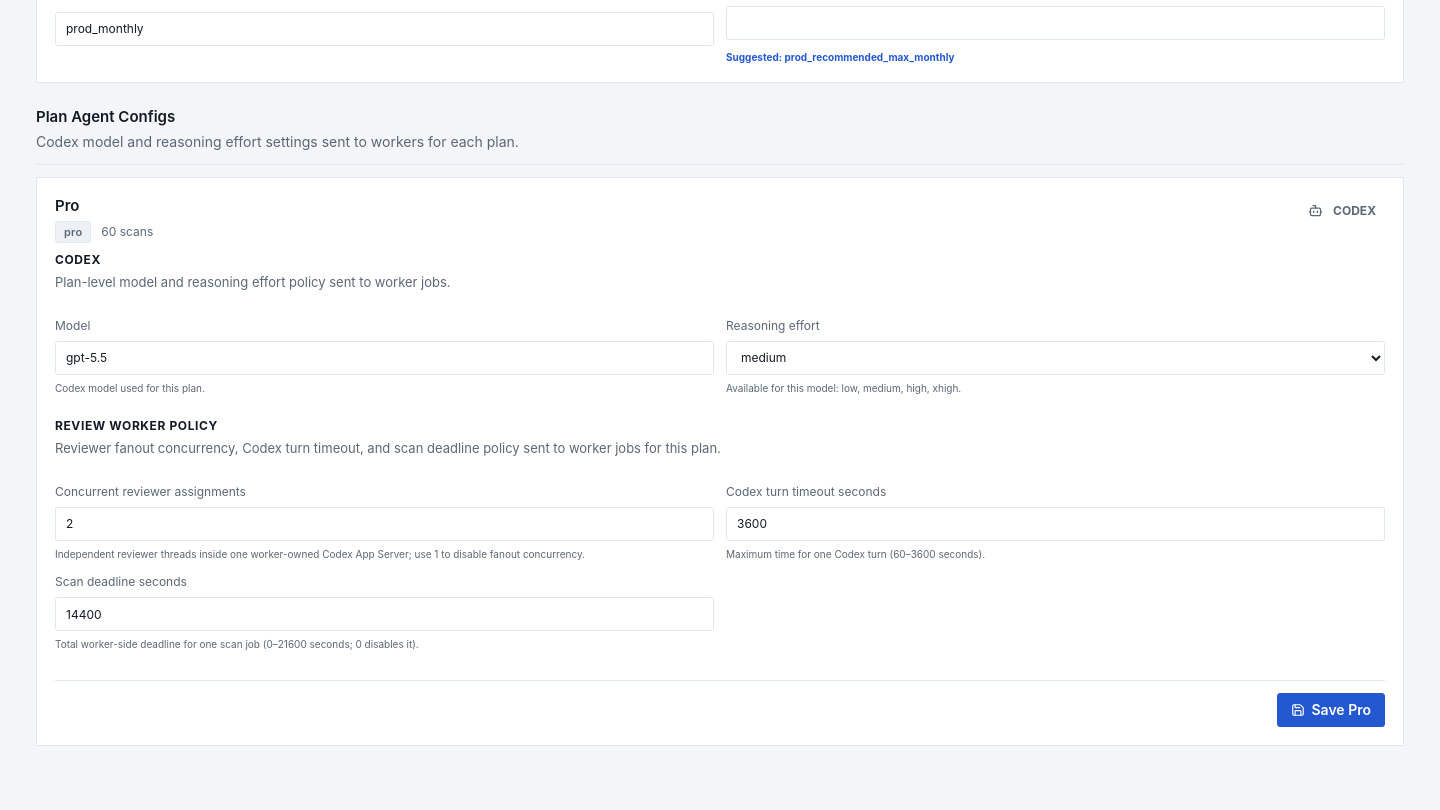
PlansScreen › blocks saving an invalid timeout in Pro Scan deadline seconds
The image size is (1440, 810).
(page scrolled)
Check: the heading "Pro" is shown, box [55,196,79,214]
Replace the text in the number field named "Pro Scan deadline seconds" with "21601": coordinates (384, 614) [55,597,714,631]
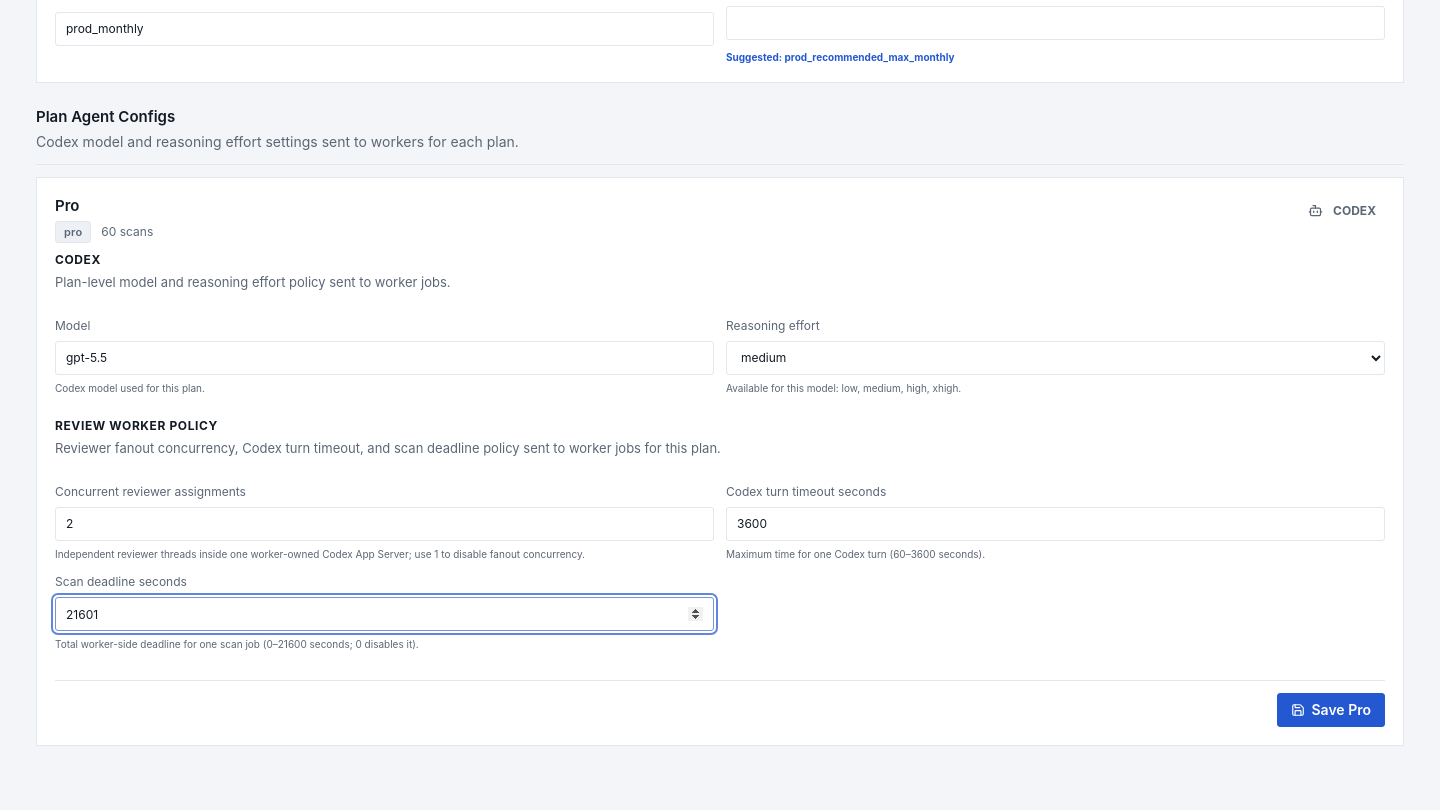
Click the button "Save Pro": coordinates (1331, 710) [1276,692,1385,726]
(page scrolled)
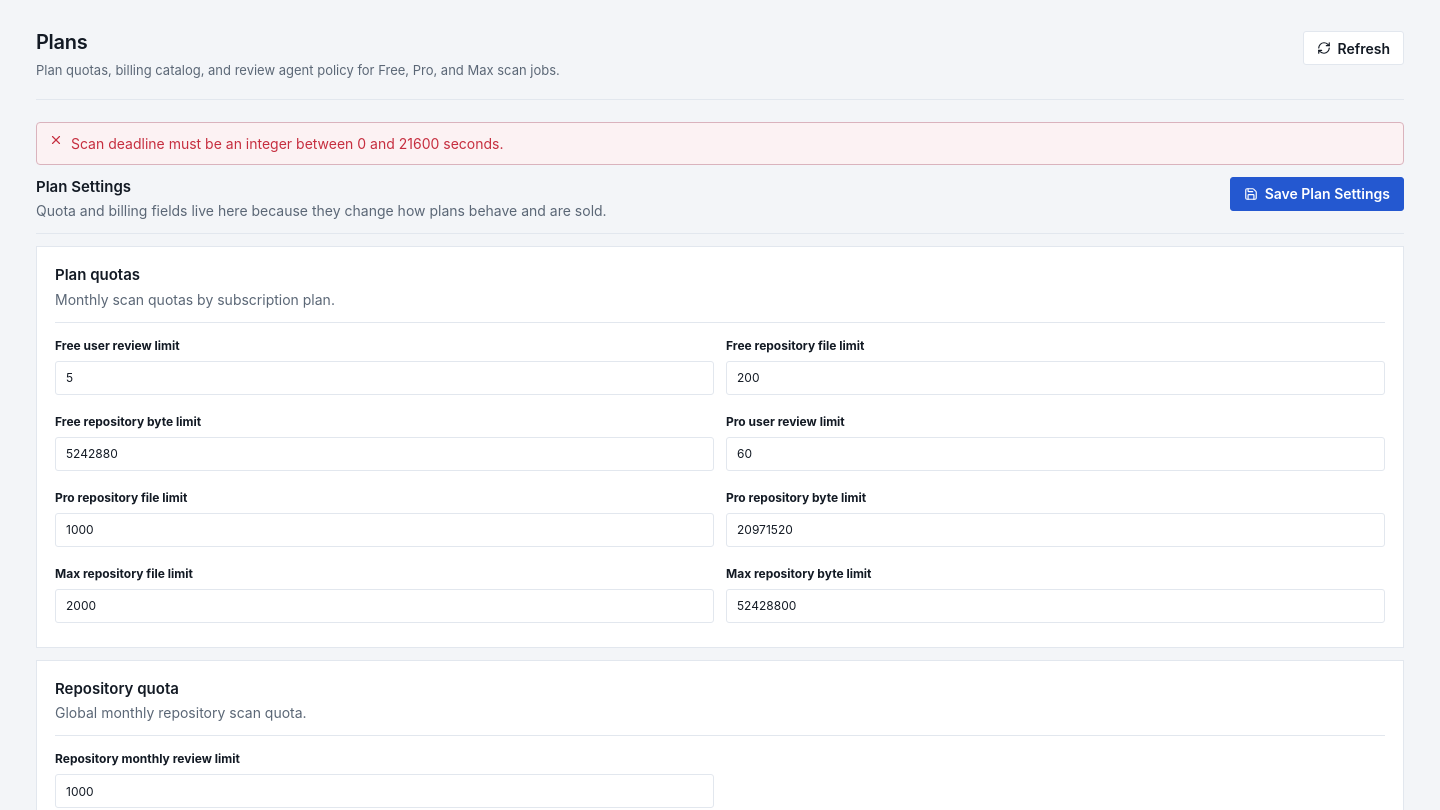
Check: the message reads "Scan deadline must be an integer between 0 and 21600 seconds.", box [71,134,504,152]
